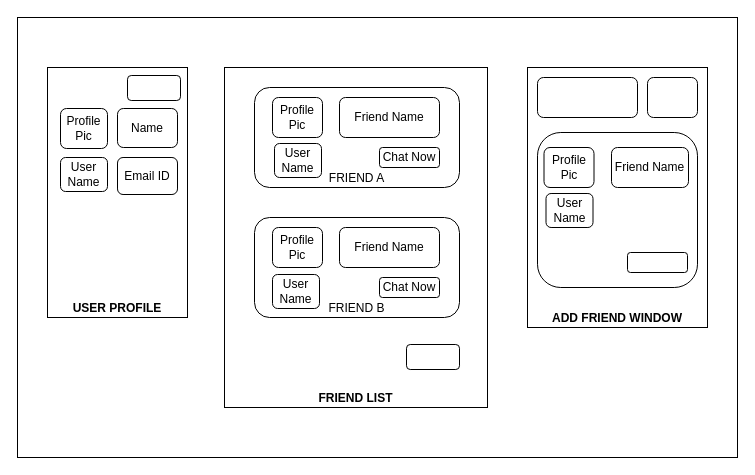
Some shapes in this 755 by 475 pixel diagram are drawn without their labels. The shapes that lost their labels are listed below. From the top down, each one's centre as x and y in pixels, then its label:
At point 153,87: "Edit Profile".
At point 587,97: "Search User Box".
At point 672,97: "Search Button".
At point 657,262: "Add".
At point 433,357: "Add Friend".
